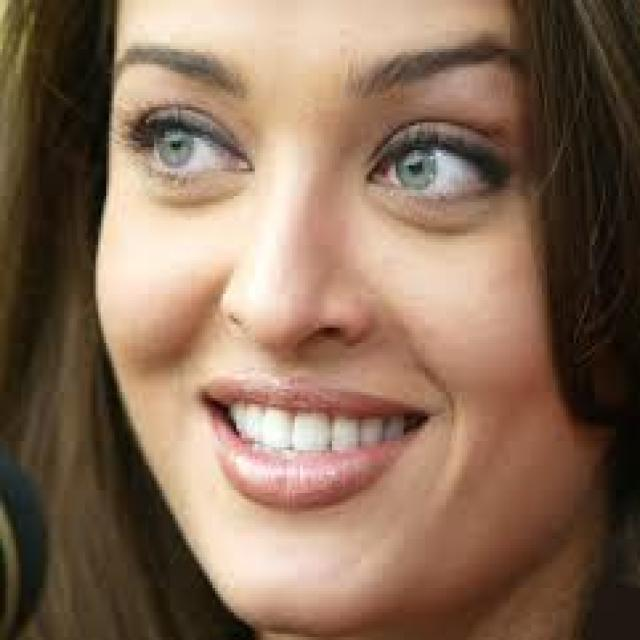moderate: (366, 190, 514, 237), (129, 172, 248, 208)
